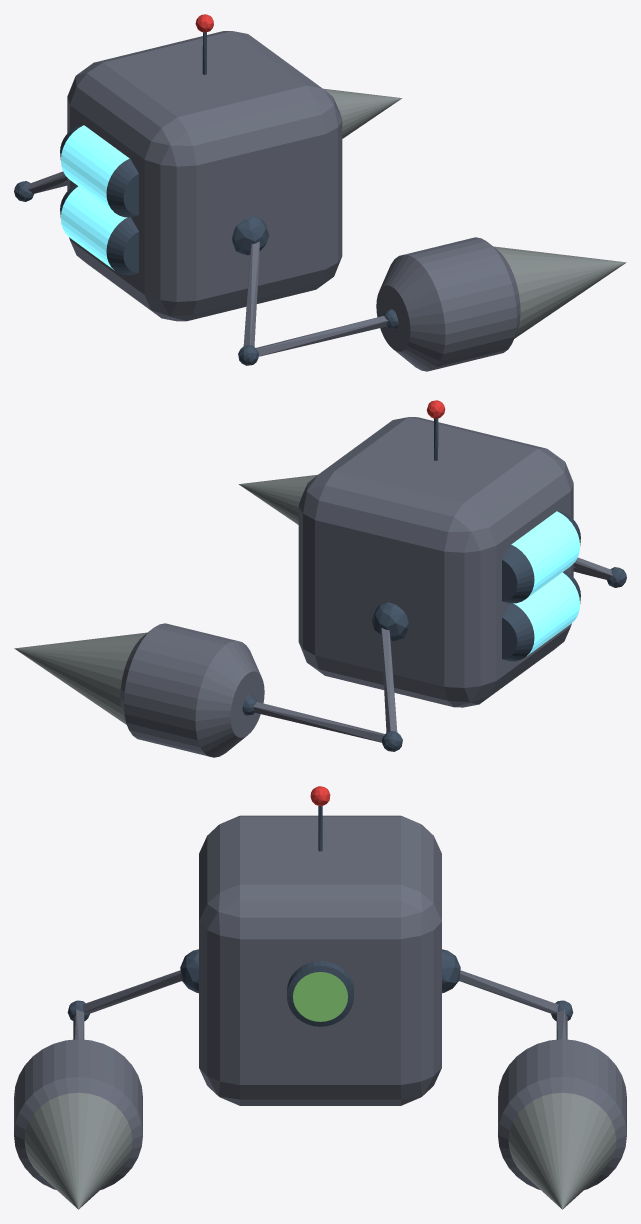
Rendered from RobotDraft.fbx.
The picture shows the model from 3 angles, top to bottom: view 1: azimuth 30°, elevation 25°; view 2: azimuth 150°, elevation 25°; view 3: azimuth 270°, elevation 25°; orthographic projection. The views are drawn at different scales.
Parts seen in each view (by area): view 1: Body; view 2: Body; view 3: Body.
Part boxes in pixels (<box>): Body: <box>14,14,626,371</box>; Body: <box>14,400,626,757</box>; Body: <box>14,786,626,1209</box>.
Size of the model in its own units: 755 by 492 by 862.
